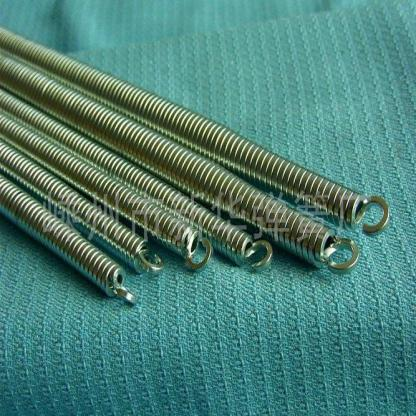FOD: (0, 138, 164, 278), (0, 174, 137, 308)
